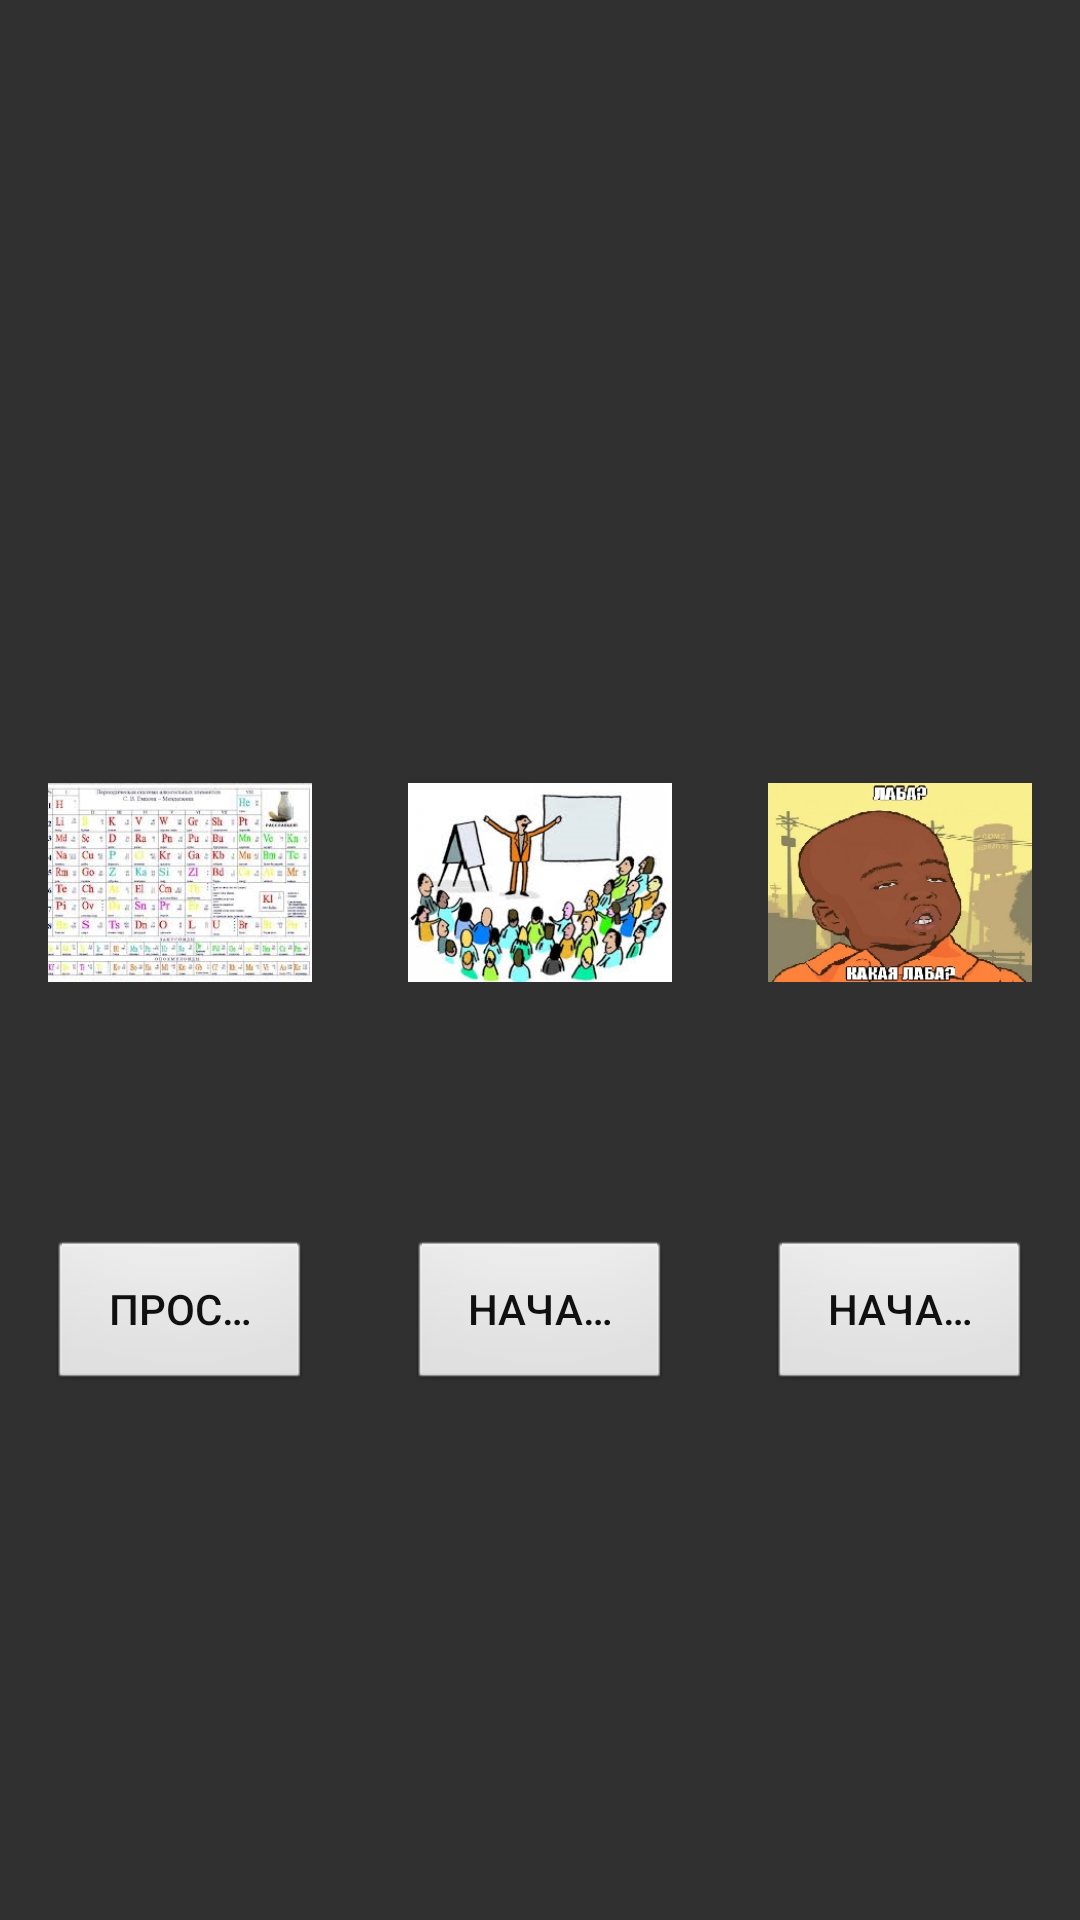

Locate icon controls on the screen. Image size 1080 × 1920, boxes as bbox(x1, y1, x2, y2).
start lecture: bbox(408, 783, 672, 982)
